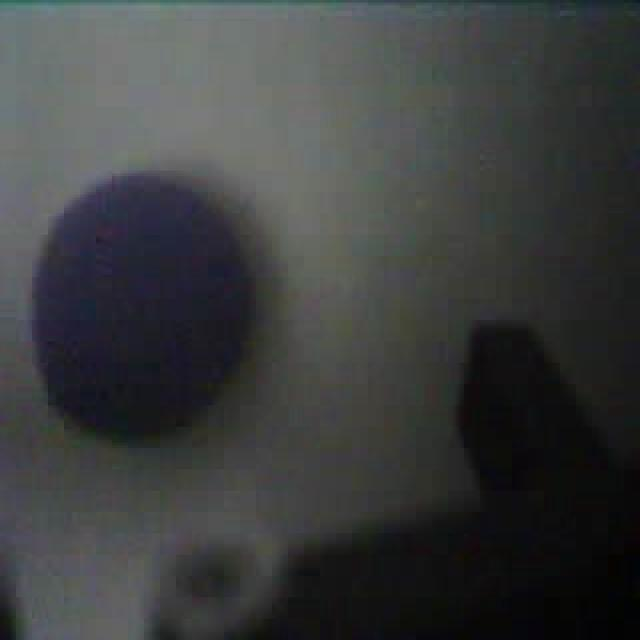blue_ball: (28, 165, 260, 443)
